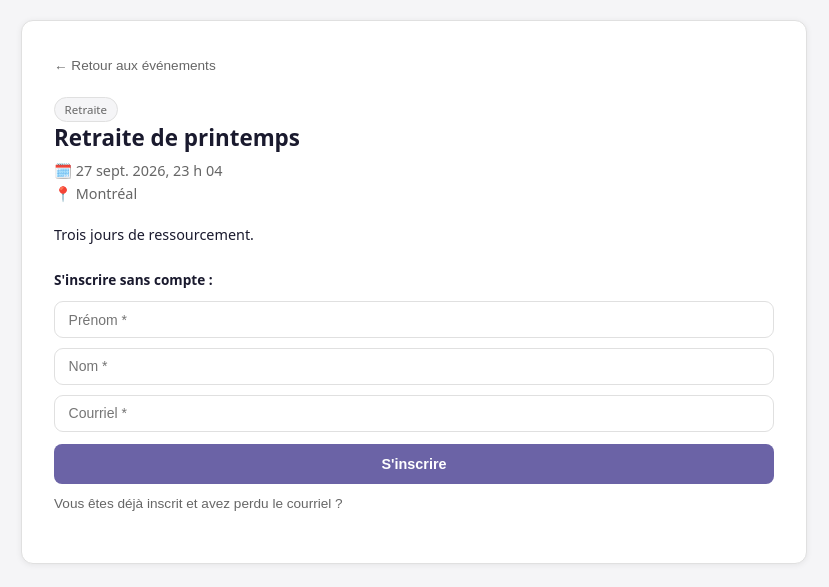
Test: EventDetailPage — inscription d'un invité › confirme l'inscription
Expected: the heading "Retraite de printemps" is shown, [54,122,300,153]
Type "Marie" into the field with placeholder "Prénom *" at {"x": 414, "y": 320}, box [54,301,774,338]
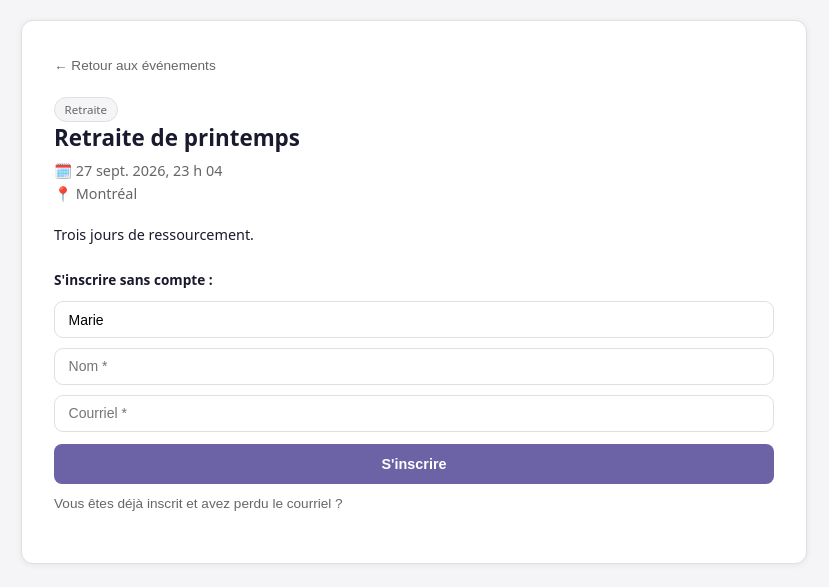
Type "Dupont" into the field with placeholder "Nom *" at {"x": 414, "y": 366}, box [54,348,774,385]
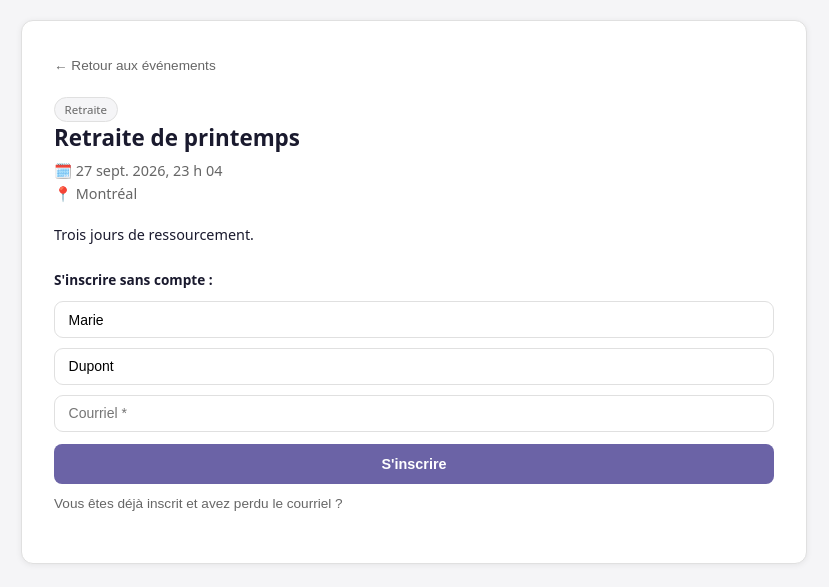
Type "marie@exemple.com" into the field with placeholder "Courriel *" at {"x": 414, "y": 413}, box [54,395,774,432]
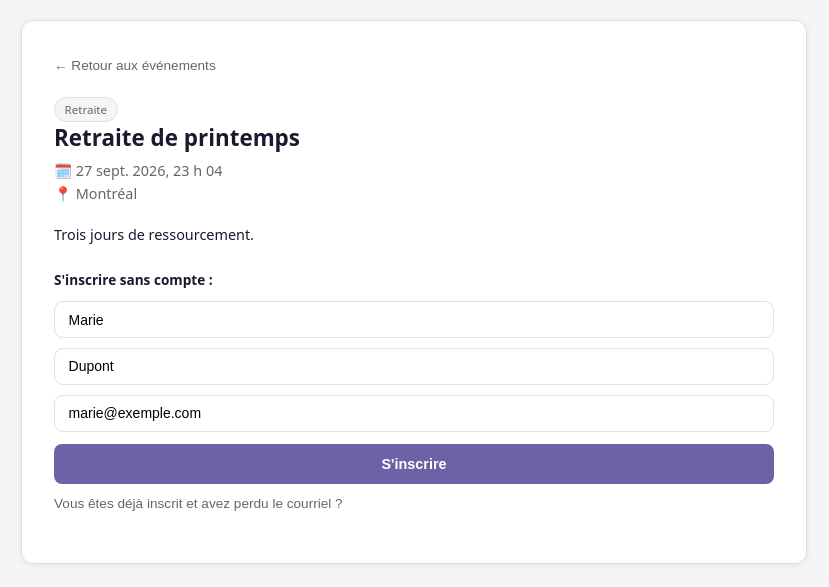
Click the button "S'inscrire" at {"x": 414, "y": 464}, box [54,444,774,484]
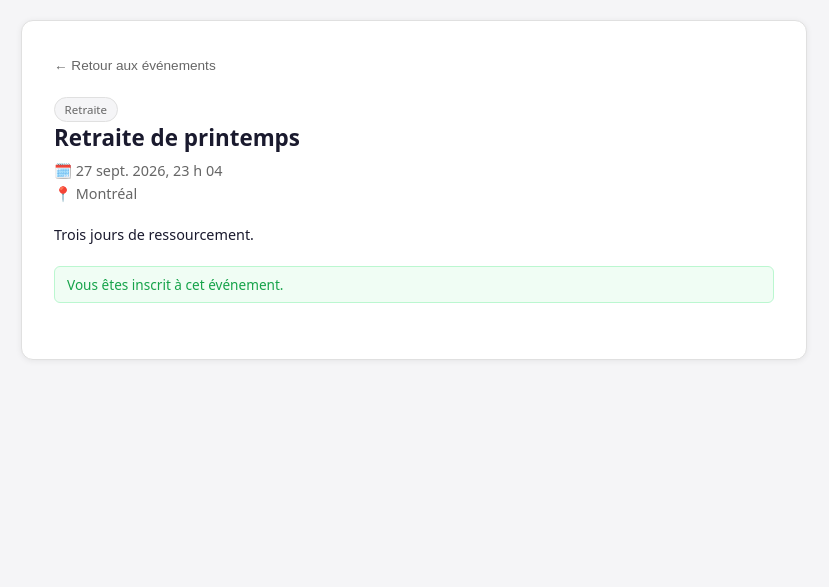
Expected: the text "Vous êtes inscrit à cet événement." is shown, [54,266,774,303]
